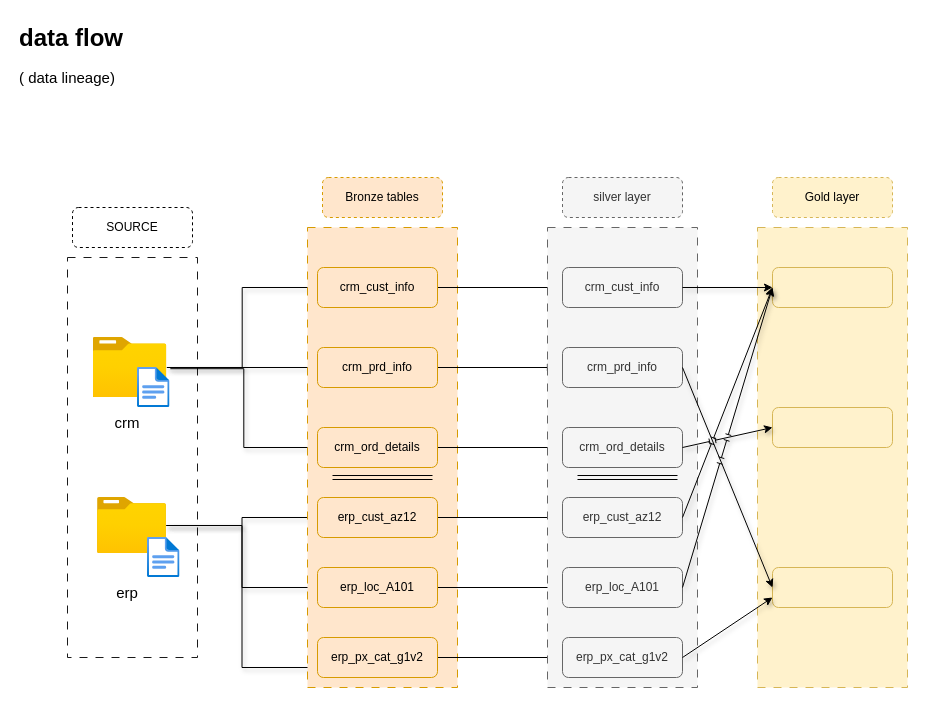
The diagram is 925 pixels wide and 705 high, and some of its shapes have lost their labels. The shapes that lost their labels are listed below. From the top down, each one's centre as x and y in pixels, then its label:
At (832,287): "Gold.dim_customers".
At (832,427): "Gold.fact_slaes".
At (832,587): "Gold.dim_product".
